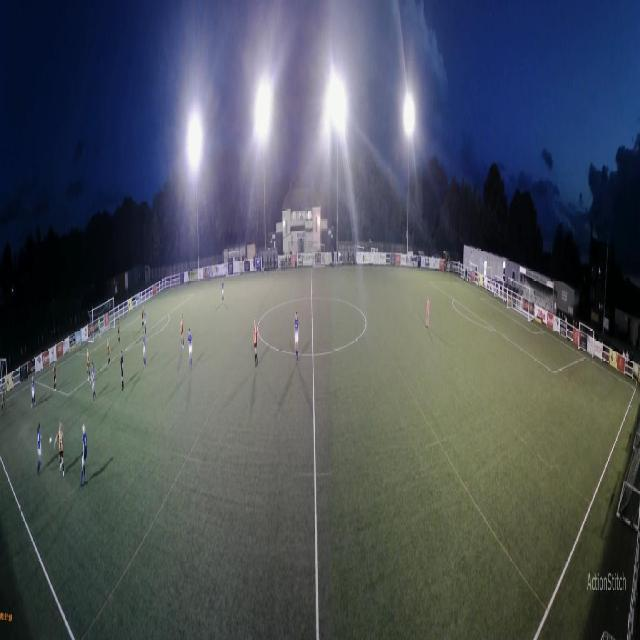ball: (49, 436, 53, 445)
player: (54, 421, 65, 477), (81, 423, 88, 487), (294, 312, 300, 366), (37, 424, 43, 476), (252, 319, 258, 368), (90, 363, 96, 401), (188, 328, 193, 370), (31, 375, 36, 407), (120, 351, 124, 391), (180, 313, 184, 349), (426, 294, 430, 329), (53, 361, 57, 393), (107, 338, 111, 369), (143, 332, 146, 369), (87, 347, 90, 381), (2, 388, 6, 410), (117, 318, 120, 343), (142, 304, 145, 328), (98, 317, 101, 339), (144, 309, 146, 334), (222, 279, 224, 303)
